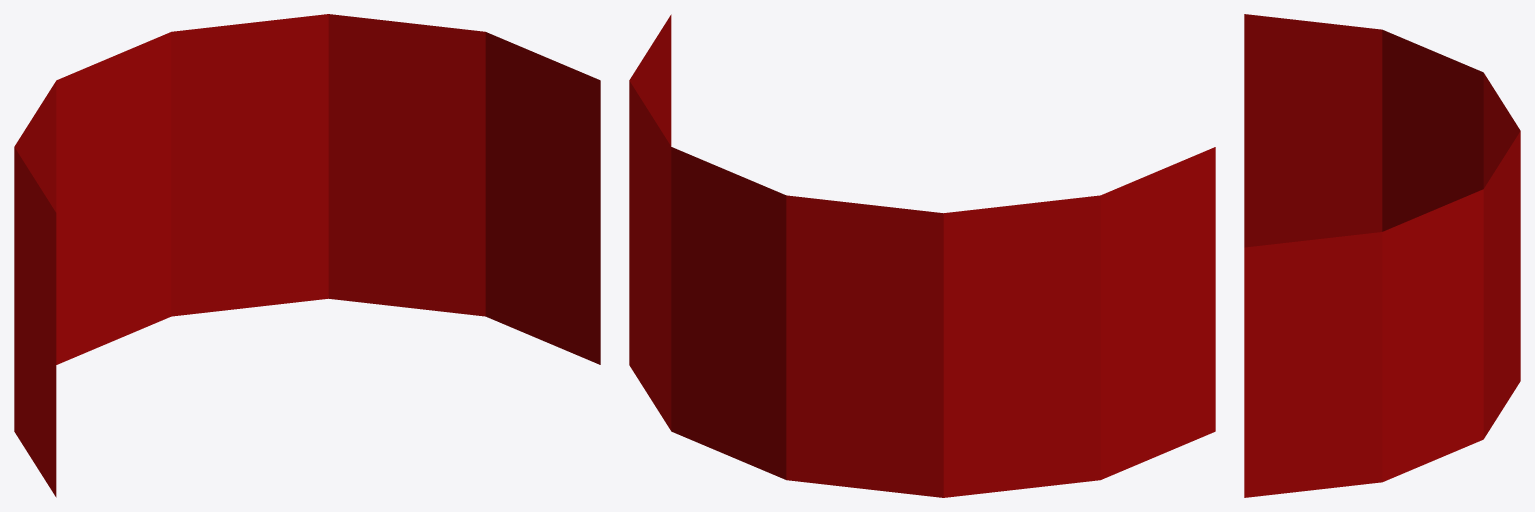
Rendered from c_tunnel_pipe_entrance_w_2.fbx.
3 renders of one model, left to right at view 1: azimuth 30°, elevation 25°; view 2: azimuth 150°, elevation 25°; view 3: azimuth 270°, elevation 25°, orthographic. The views are drawn at different scales.
Parts seen in each view (by area): view 1: coll_tunnel_pipe_entrance_w_2; view 2: coll_tunnel_pipe_entrance_w_2; view 3: coll_tunnel_pipe_entrance_w_2.
Part boxes in pixels (left/top/right/bottom): coll_tunnel_pipe_entrance_w_2: left=14, top=14, right=600, bottom=497; coll_tunnel_pipe_entrance_w_2: left=629, top=14, right=1215, bottom=497; coll_tunnel_pipe_entrance_w_2: left=1244, top=14, right=1520, bottom=497.
Bounding box in the file's own units: 600 × 300 × 300.
